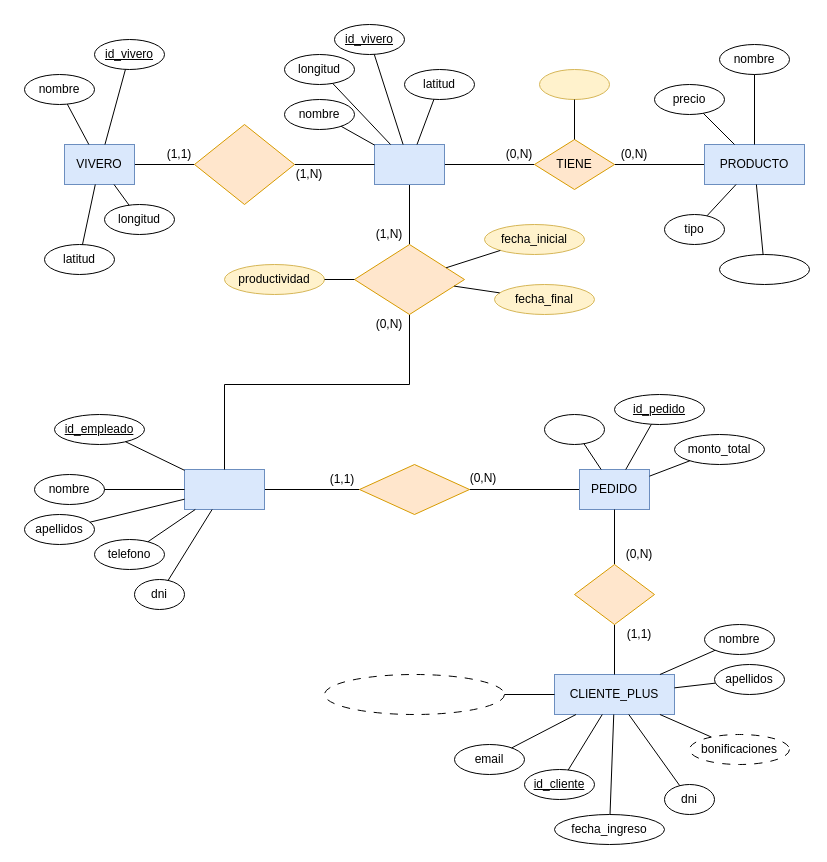
Image size: 827x862. Some labels were removed from this diagram. Each missing label, with the box of its shape:
ASIGNACION: (354, 244, 464, 314)
EMPLEADO: (184, 468, 264, 510)
fecha: (544, 414, 604, 444)
GESTIONA: (358, 464, 470, 514)
id_producto: (718, 254, 810, 284)
PERTENECE: (194, 124, 294, 204)
REALIZA: (574, 564, 654, 624)
stock: (538, 68, 610, 100)
volumen_compras_mensual: (324, 674, 504, 714)
ZONA: (374, 144, 444, 184)
